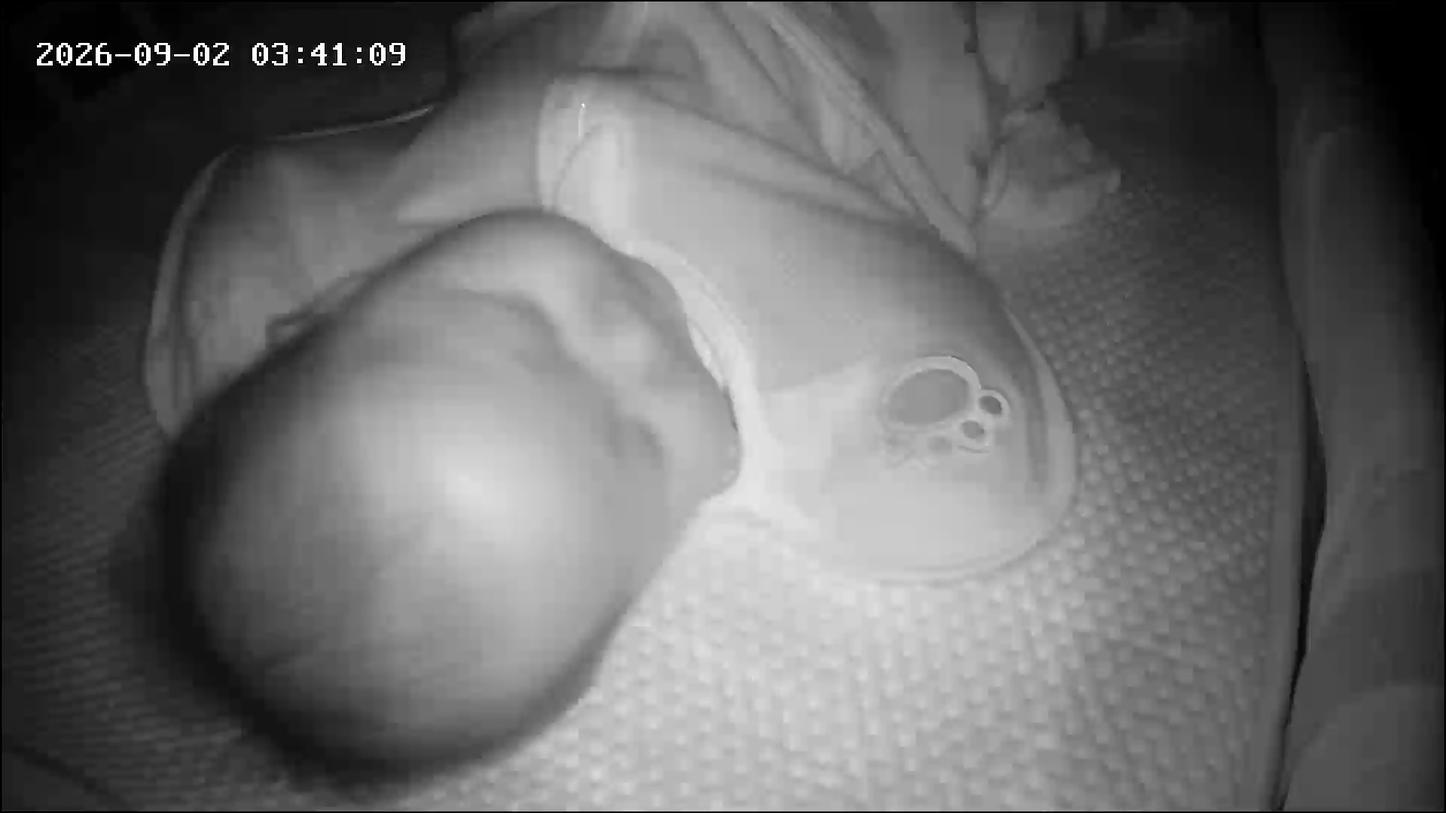baby: (107, 2, 1083, 802)
baby_face: (126, 212, 716, 787)
